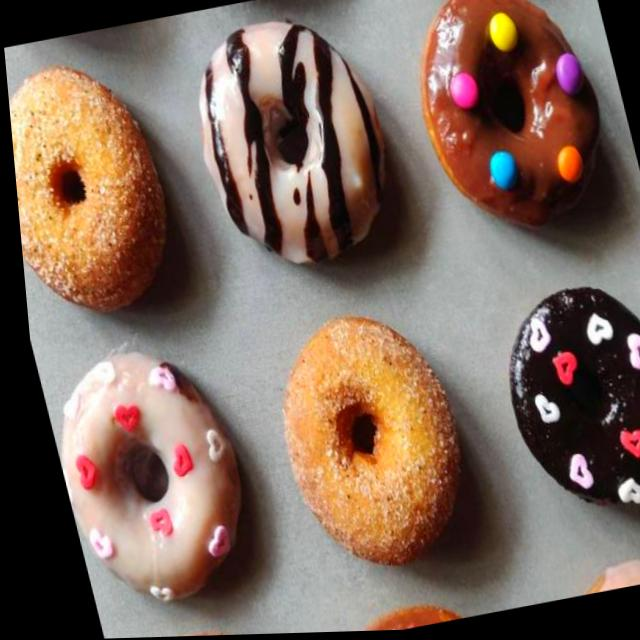donut: (168, 4, 412, 285), (29, 340, 262, 622), (249, 301, 478, 582), (393, 0, 620, 242), (4, 52, 188, 330), (476, 274, 640, 514)
